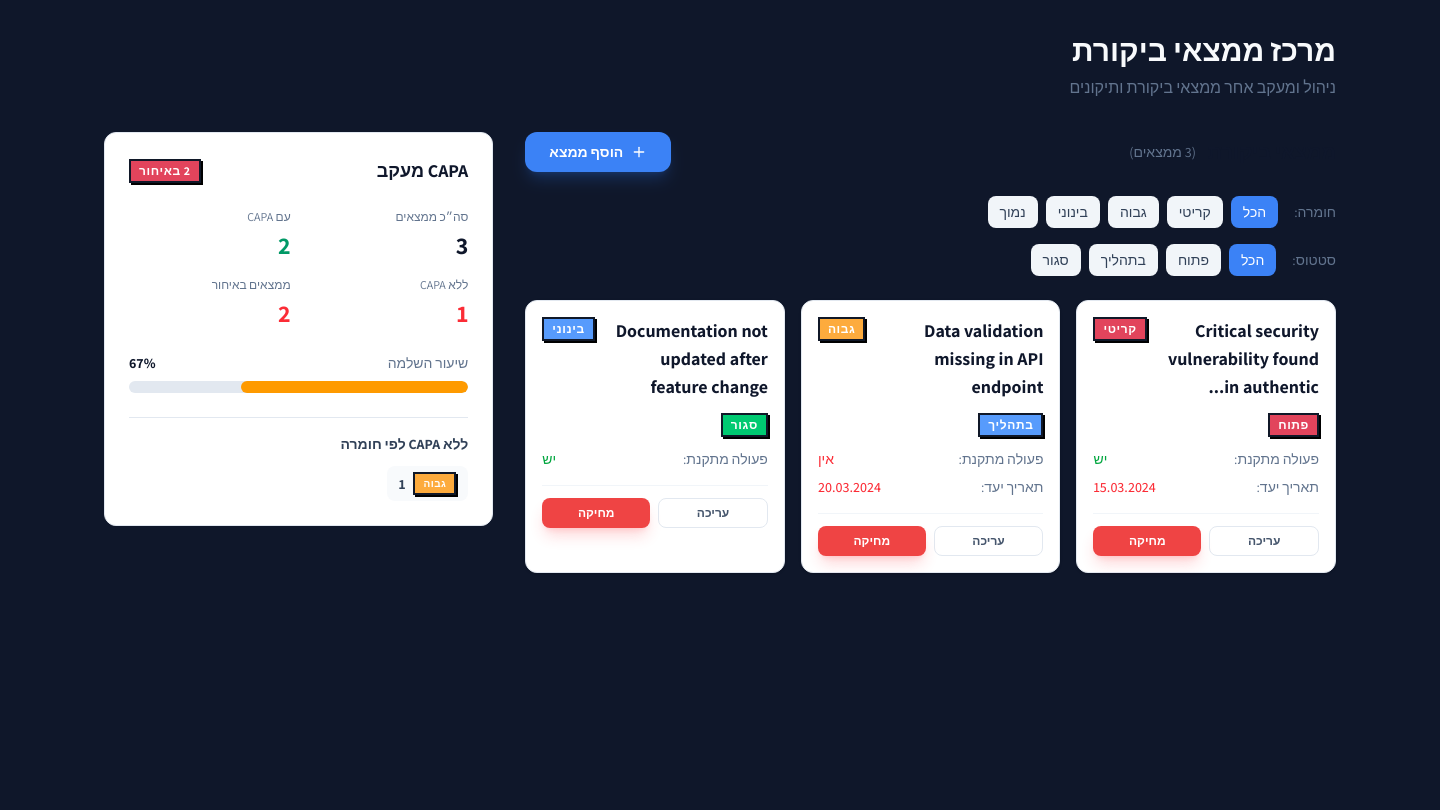
Test: FindingsPage › add finding modal › renders FindingForm in add mode
The image size is (1440, 810).
Click the button "הוסף ממצא" at (598, 152), box x1=525 y1=132 x2=671 y2=172
(page scrolled)
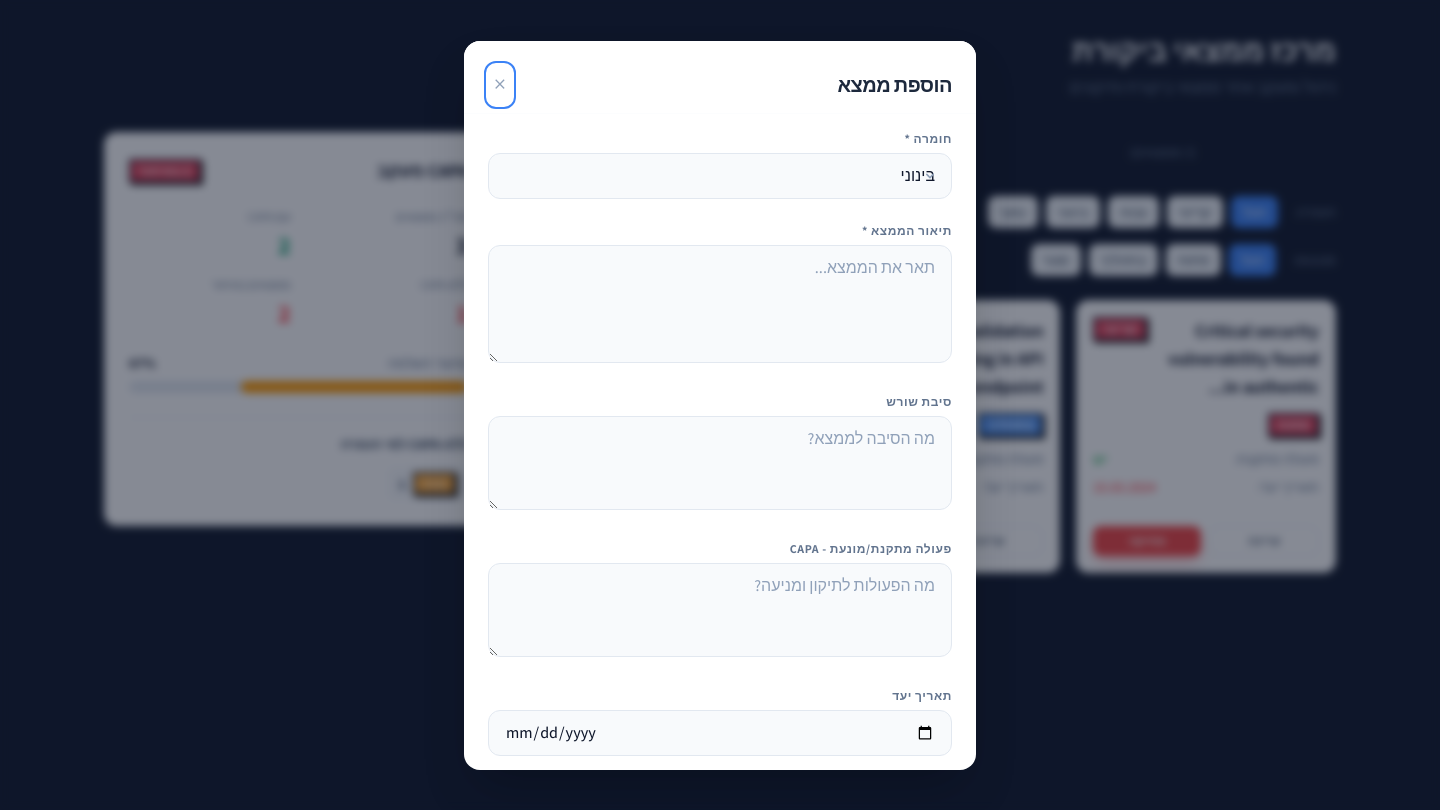
Now the form is shown, box x1=488 y1=114 x2=952 y2=770
